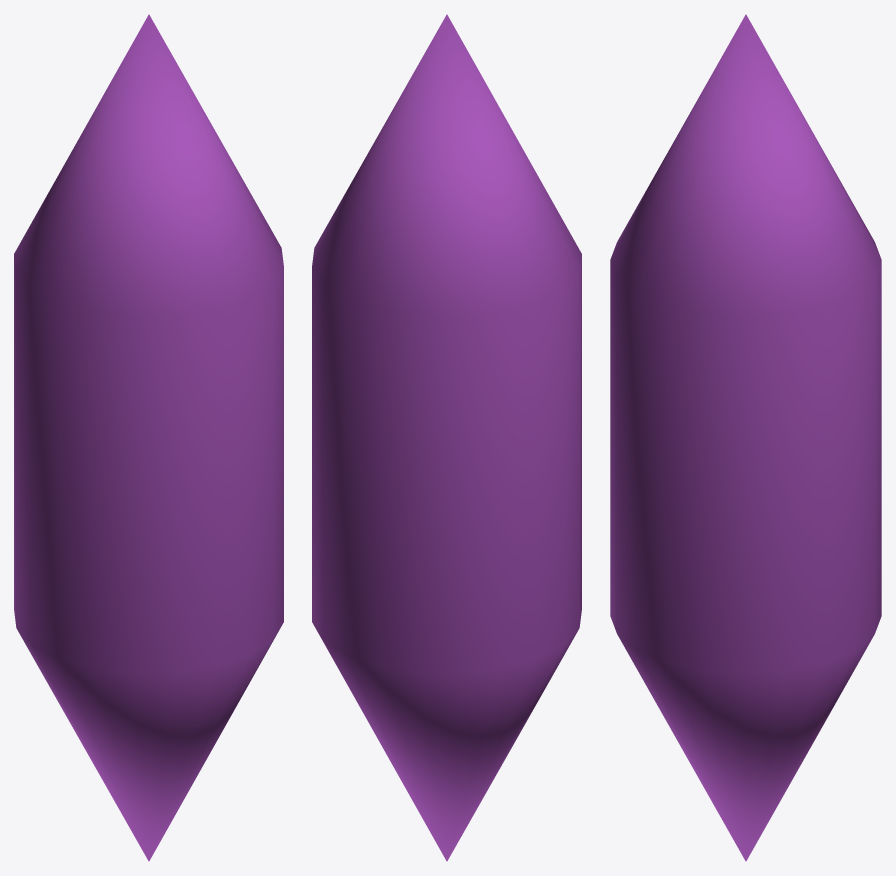
Rendered from crystal_1.fbx.
3 renders of one model, left to right at view 1: azimuth 30°, elevation 25°; view 2: azimuth 150°, elevation 25°; view 3: azimuth 270°, elevation 25°, orthographic.
Parts seen in each view (by area): view 1: pCone3; view 2: pCone3; view 3: pCone3.
Boxes of the visible parts, bbox=[...] form: pCone3: bbox=[14, 14, 283, 861]; pCone3: bbox=[312, 14, 581, 861]; pCone3: bbox=[610, 14, 881, 861].
Bounding box in the file's own units: 20 × 68.98 × 20.
